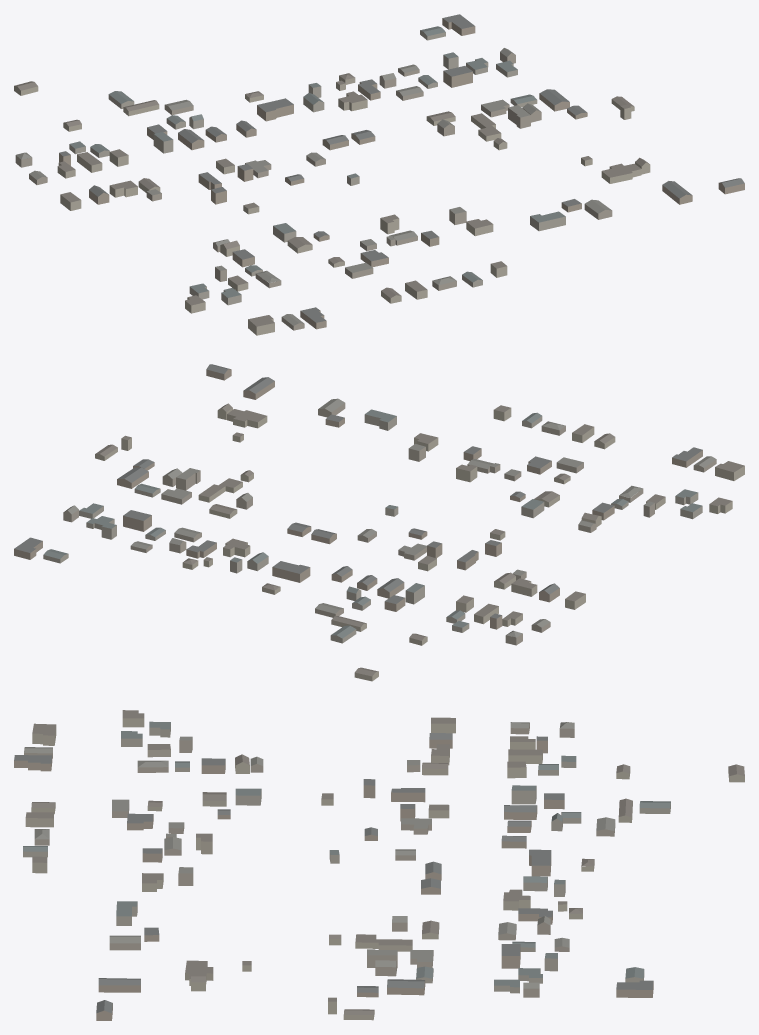
The model's file is 49a0ca14dce8-chunk-1206_11843.glb.
The picture shows the model from 3 angles, top to bottom: view 1: azimuth 30°, elevation 25°; view 2: azimuth 150°, elevation 25°; view 3: azimuth 270°, elevation 25°; orthographic projection. The views are drawn at different scales.
Visible parts, largest first — view 1: building_88213, building_155735; view 2: building_88213, building_155735, building_18372; view 3: building_18372, building_19584, building_100734, building_107589, building_88213, building_36513, building_131634.
Part boxes in pixels (left/top/right/bottom): building_88213: left=257, top=98, right=293, bottom=121; building_155735: left=601, top=163, right=641, bottom=183; building_88213: left=272, top=561, right=310, bottom=582; building_155735: left=227, top=409, right=267, bottom=428; building_18372: left=198, top=478, right=242, bottom=502; building_18372: left=355, top=934, right=412, bottom=951; building_19584: left=98, top=978, right=140, bottom=992; building_100734: left=616, top=980, right=653, bottom=997; building_107589: left=387, top=979, right=425, bottom=995; building_88213: left=529, top=849, right=551, bottom=876; building_36513: left=14, top=755, right=52, bottom=771; building_131634: left=503, top=889, right=530, bottom=910.
Bounding box in the file's own units: 387 × 8.15 × 396.
